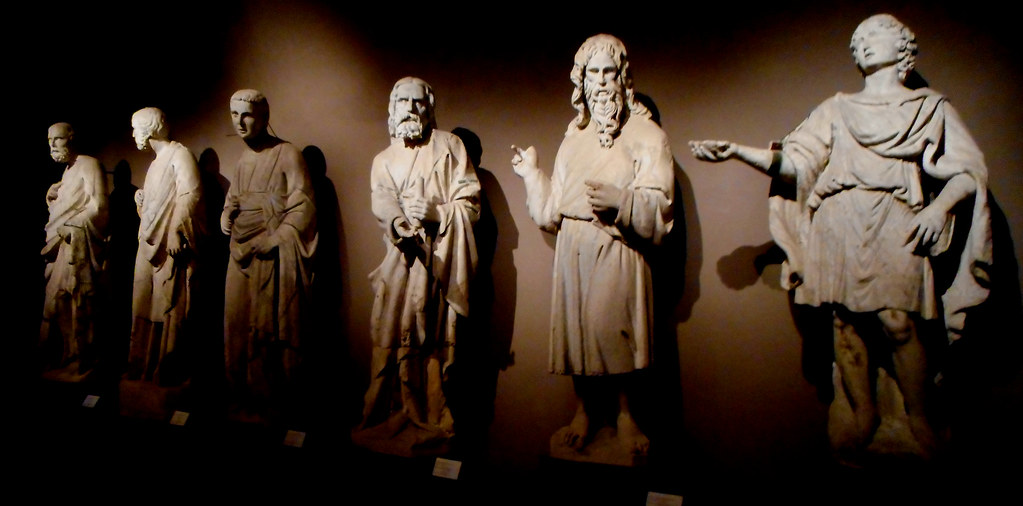person-like: (686, 9, 1002, 464), (507, 27, 683, 469), (358, 69, 487, 460), (215, 85, 326, 396), (121, 101, 207, 386), (29, 118, 112, 401)
